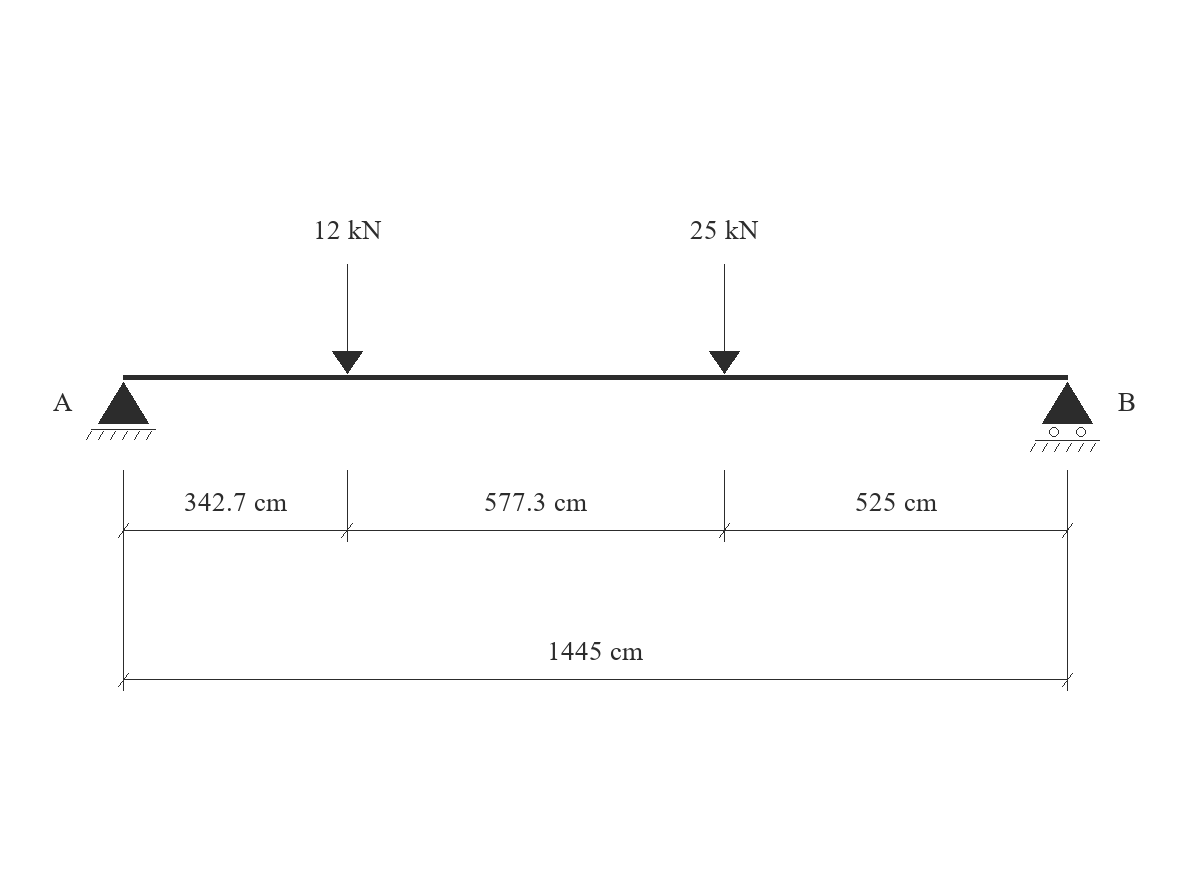pin_support: (86, 382, 156, 440)
point_load: (332, 264, 363, 374), (709, 264, 740, 374)
roller_support: (1030, 382, 1100, 452)
